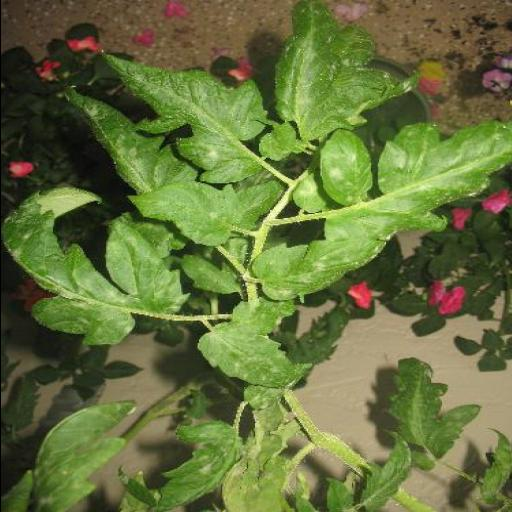disease_tomato: (0, 184, 183, 350), (98, 52, 278, 186), (368, 112, 510, 246), (273, 1, 410, 131), (18, 394, 132, 512), (254, 234, 386, 302), (155, 414, 245, 512), (193, 323, 303, 389), (316, 126, 372, 208)
